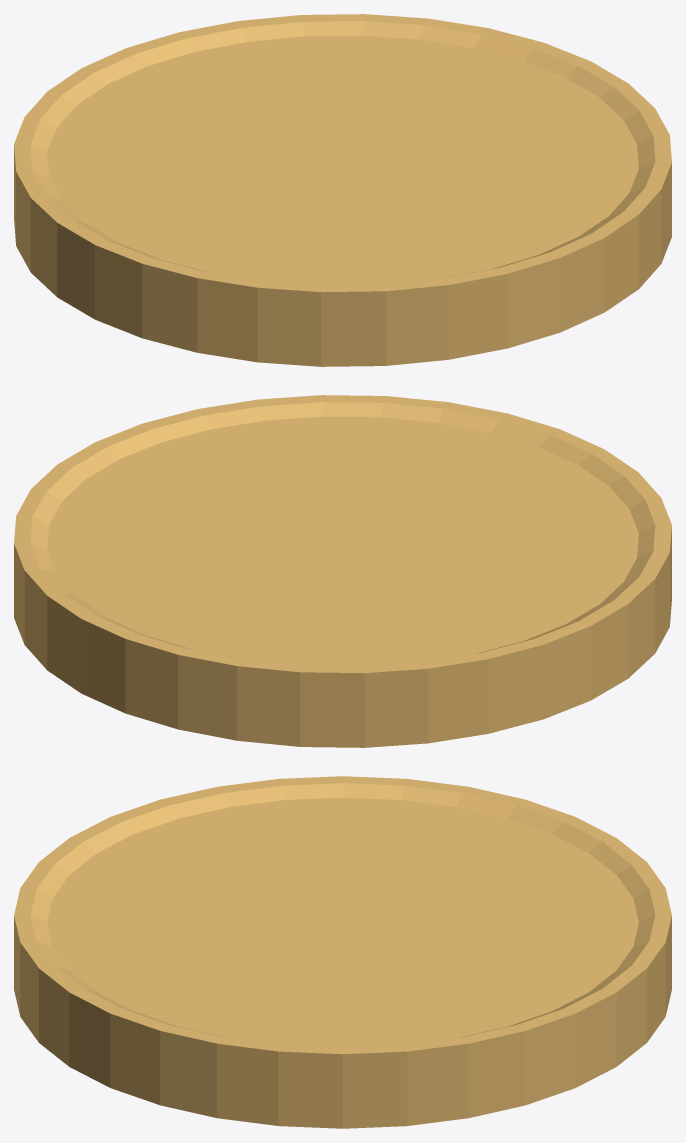
Rendered from skull-coin.glb.
The picture shows the model from 3 angles, top to bottom: view 1: azimuth 30°, elevation 25°; view 2: azimuth 150°, elevation 25°; view 3: azimuth 270°, elevation 25°; orthographic projection.
Parts seen in each view (by area): view 1: Coin; view 2: Coin; view 3: Coin.
Part boxes in pixels (x1,y1,x2,y2): Coin: (14,14,671,366); Coin: (14,395,671,747); Coin: (14,776,671,1128).
Bounding box in the file's own units: 0.1804 × 0.0225 × 0.1804.
